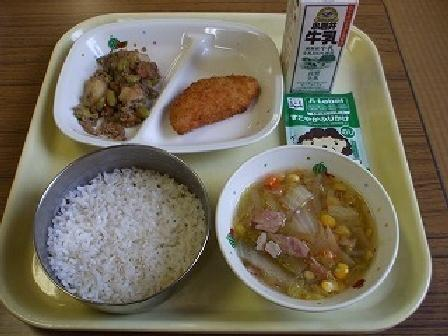Milk: (270, 0, 363, 95)
Rice: (29, 146, 205, 299)
Soups: (204, 147, 414, 307)
cooked food meat with vegetables: (64, 35, 162, 139)
cutlet: (164, 61, 276, 135)
